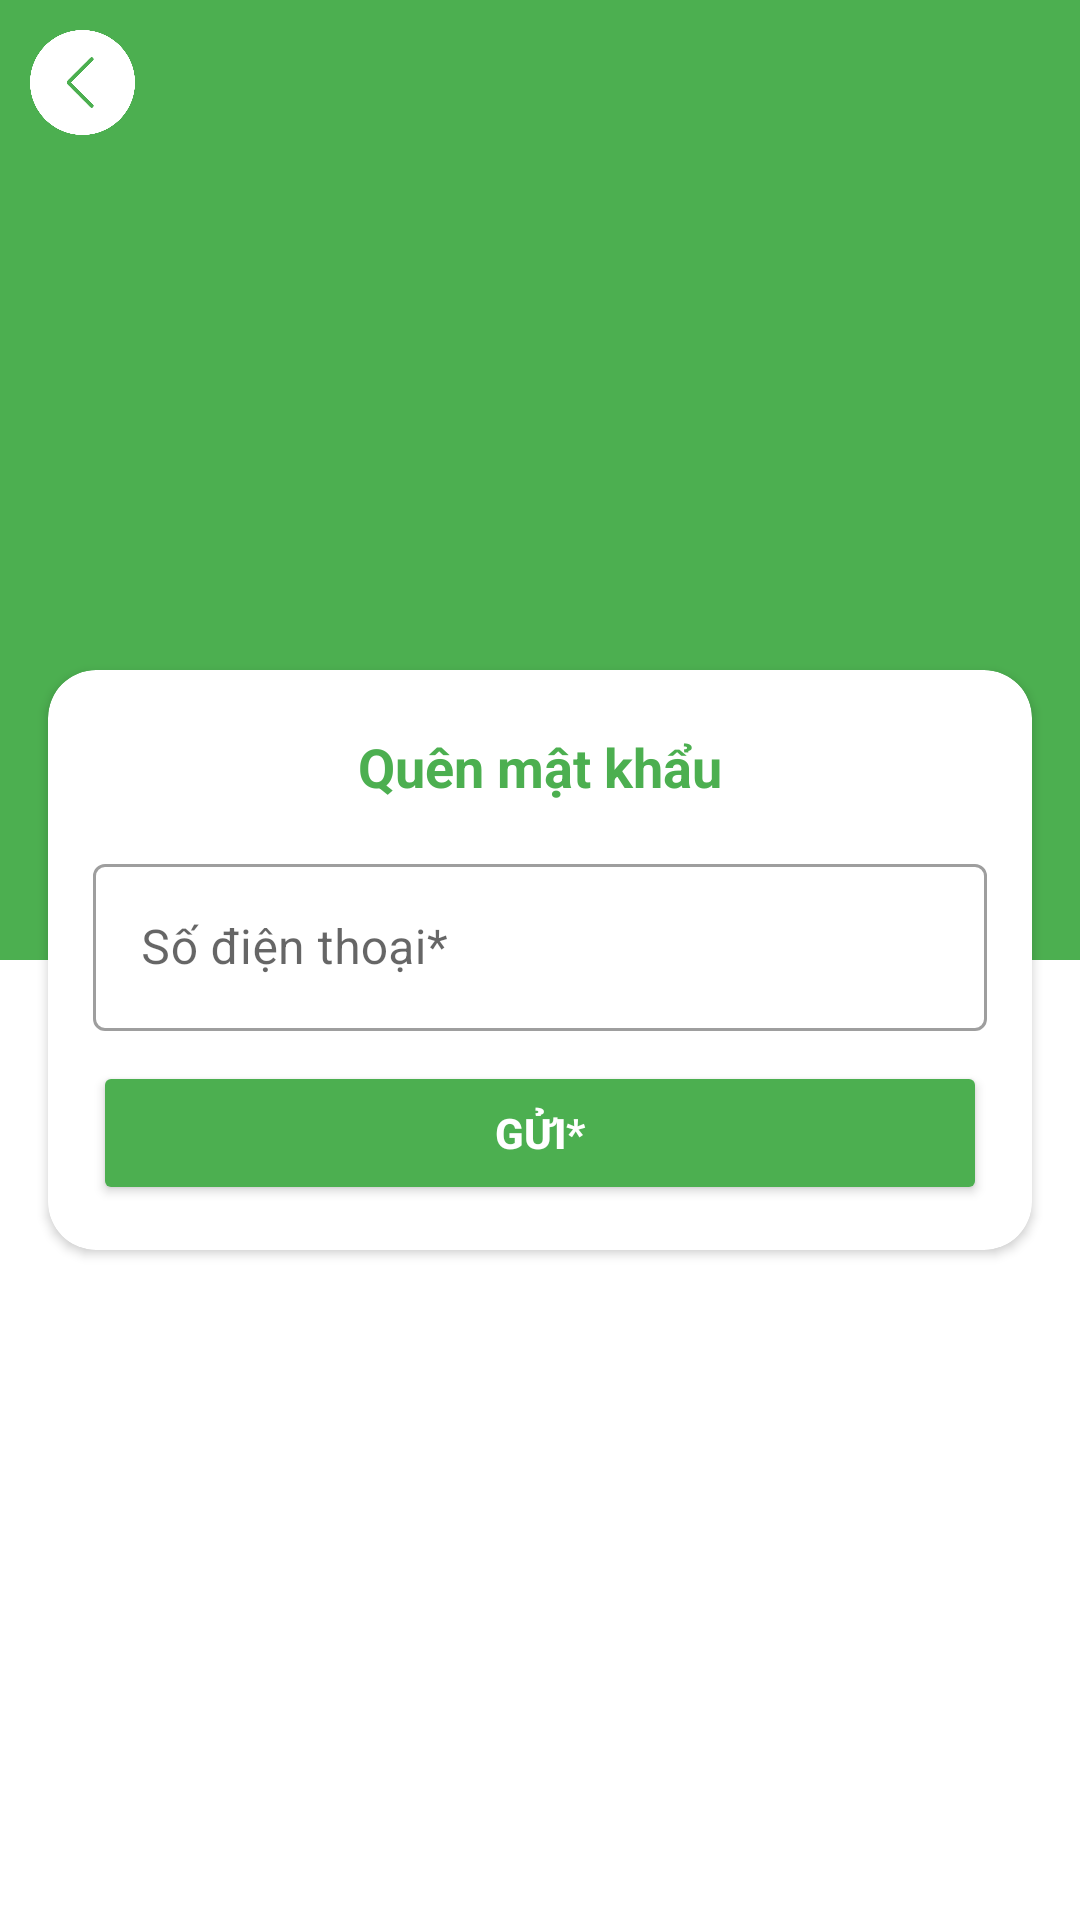

Locate icon controls on the screen. Image size 1080 x 1920, boxes as box=[x1, y1, x2, y2].
back arrow: box=[30, 30, 135, 135]
